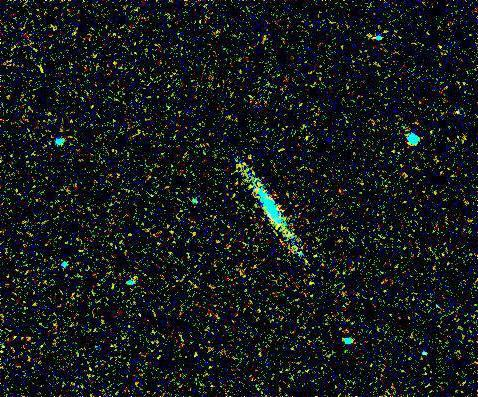star: (30, 55, 60, 85)
